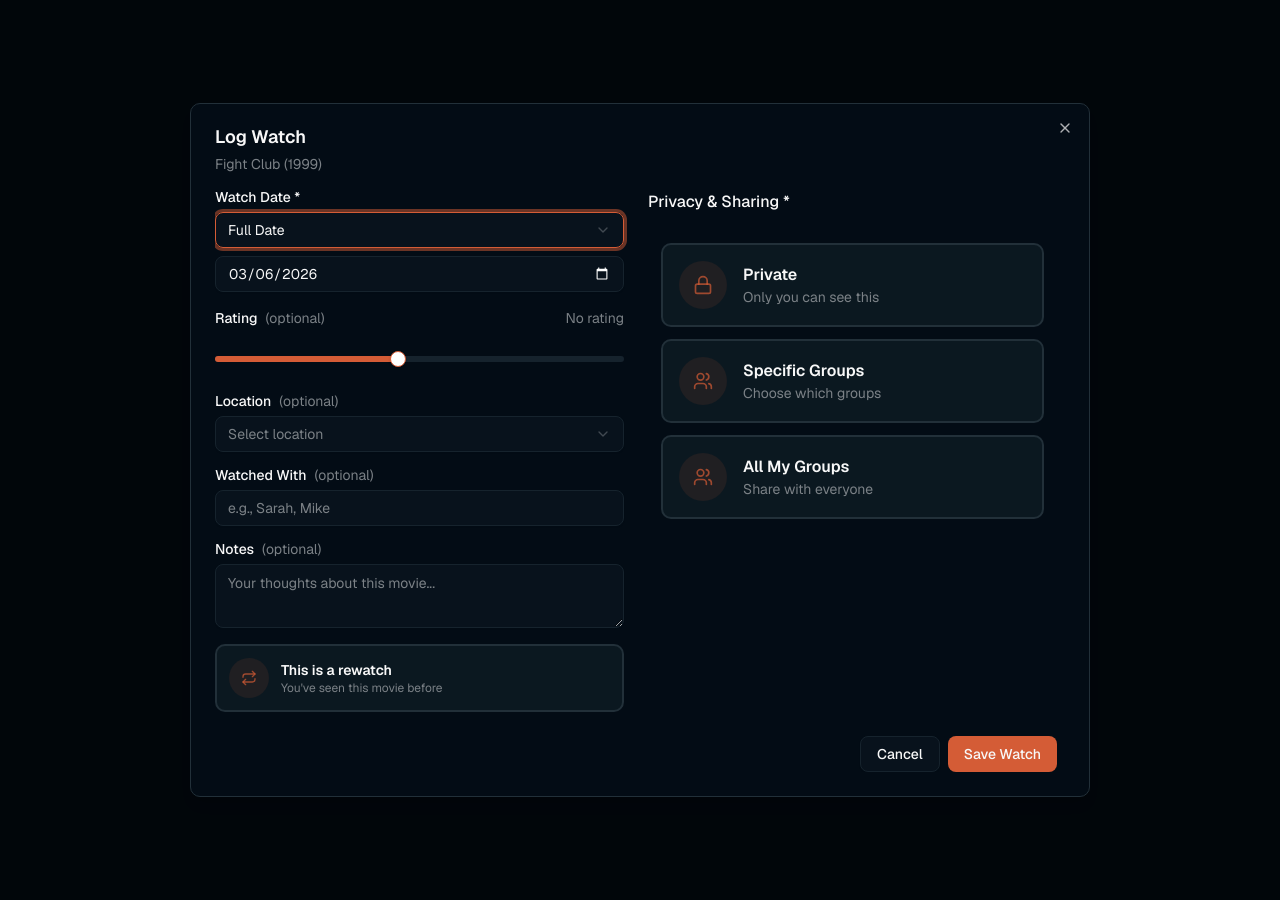
Test case: WatchForm › displays error message on API failure
# Select privacy mode (required)
Click the button "Private Only you can see this". click: (852,285)
box: [661, 243, 1044, 327]
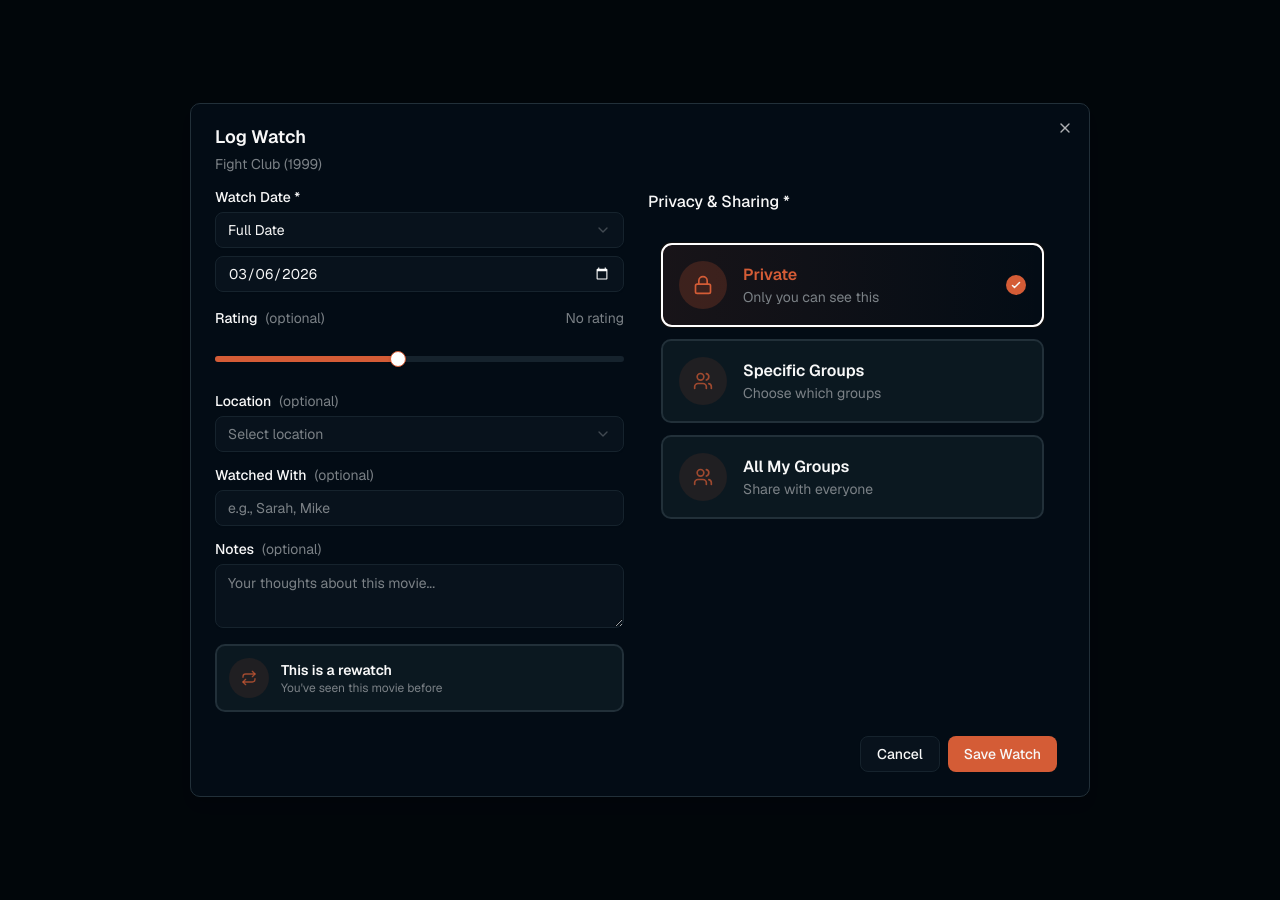
Click the button "Save Watch". click: (1002,754)
box: [948, 736, 1057, 772]
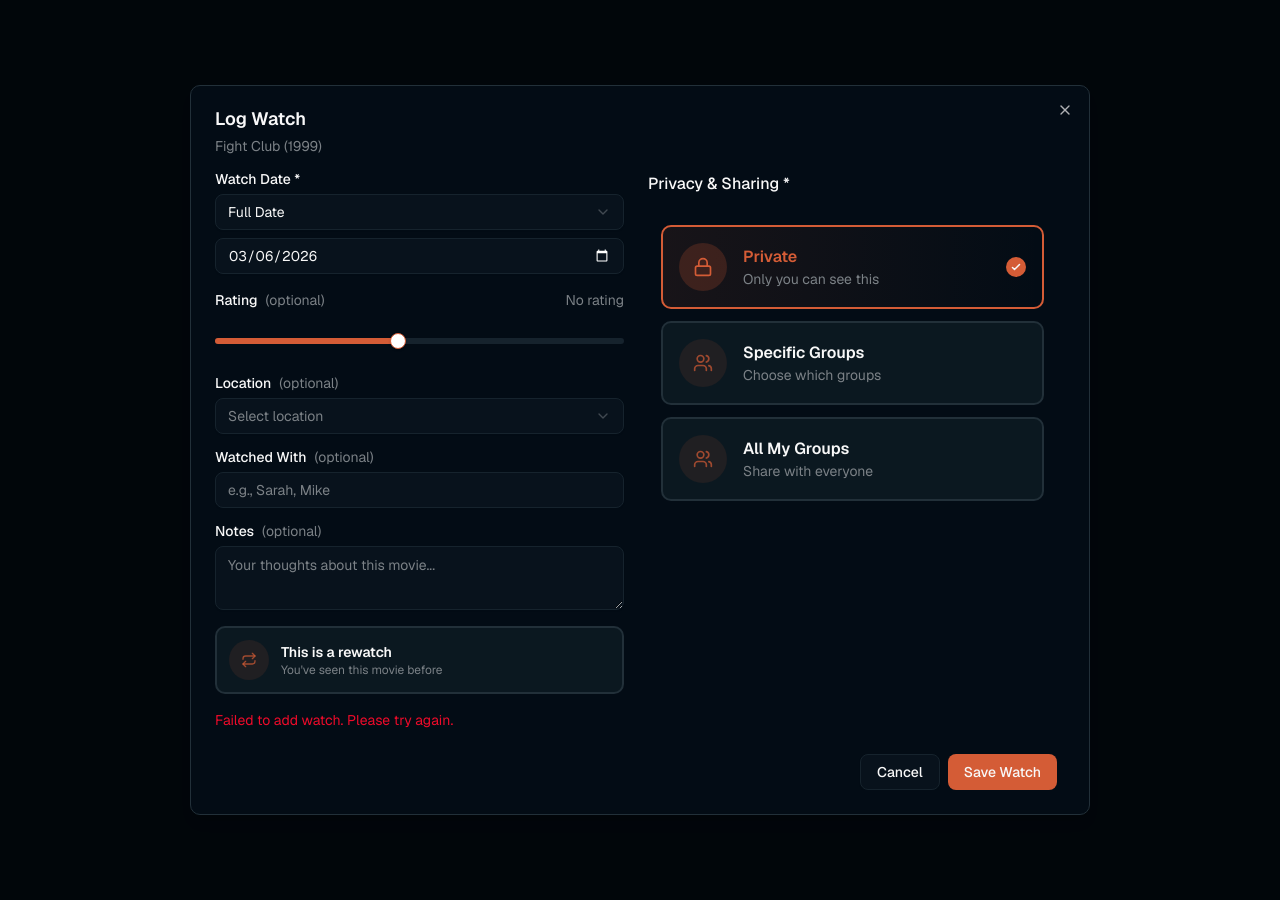
Check: the text "Failed to add watch. Please try again." is shown, box [215, 711, 453, 729]
